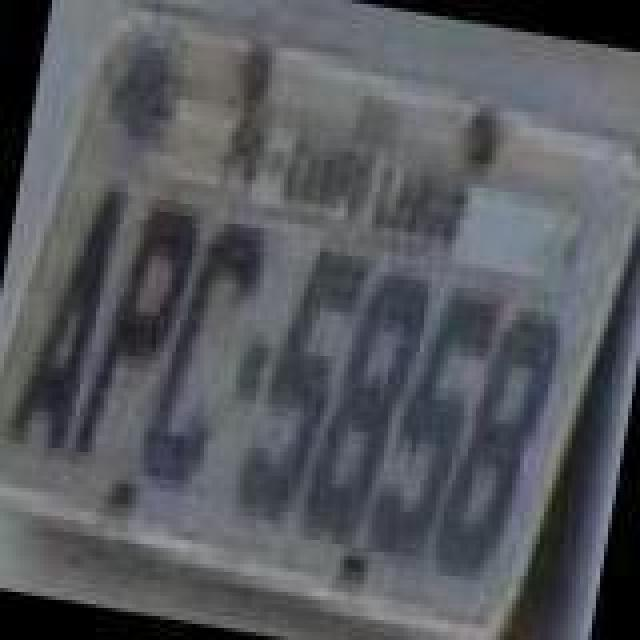5: (230, 238, 370, 530), (364, 278, 500, 570)
8: (294, 258, 434, 550), (428, 304, 564, 592)
A: (4, 176, 124, 464)
C: (134, 210, 266, 494)
P: (70, 198, 202, 474)
